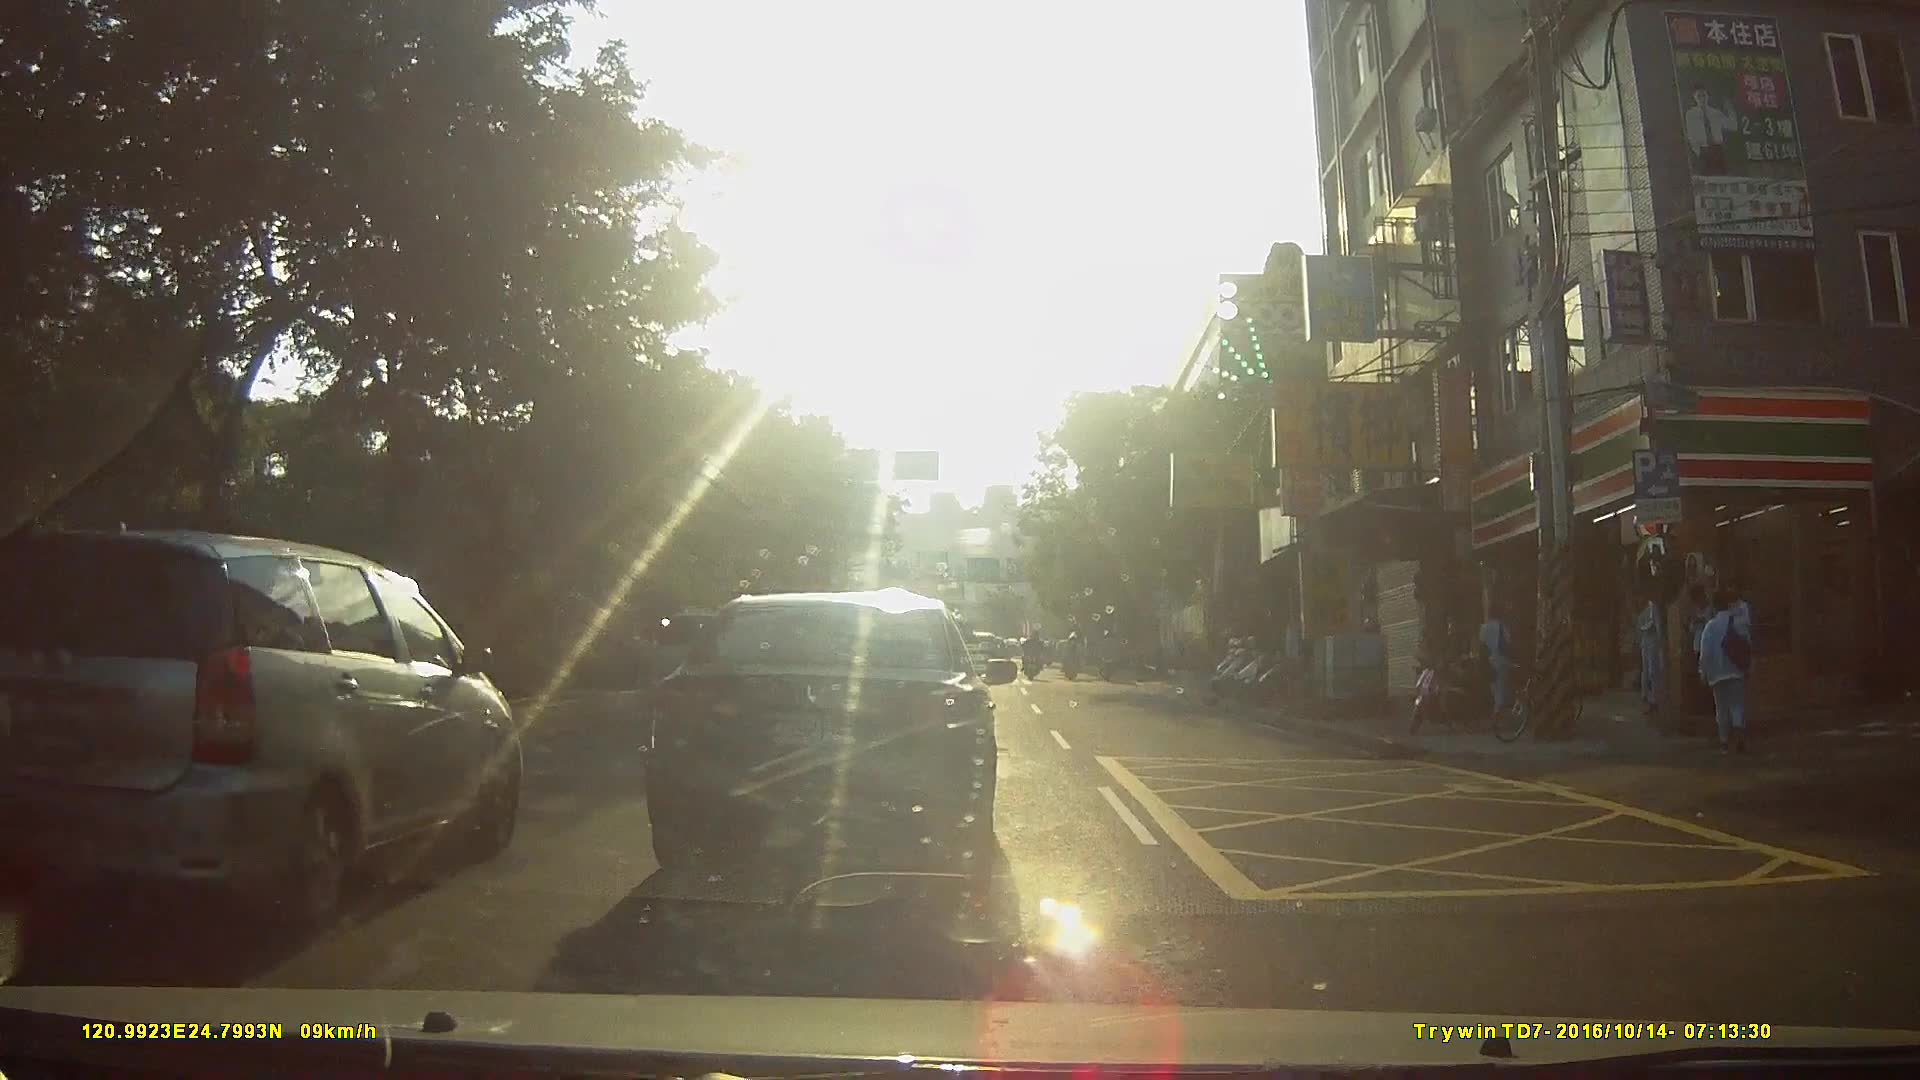pedestrian: (1702, 592, 1761, 757), (1474, 606, 1525, 717), (1692, 573, 1728, 712), (1630, 585, 1666, 716)
rider: (1062, 625, 1089, 686), (1097, 626, 1122, 687), (1022, 631, 1049, 681)
vehicle: (7, 538, 547, 905), (600, 577, 1030, 883)
